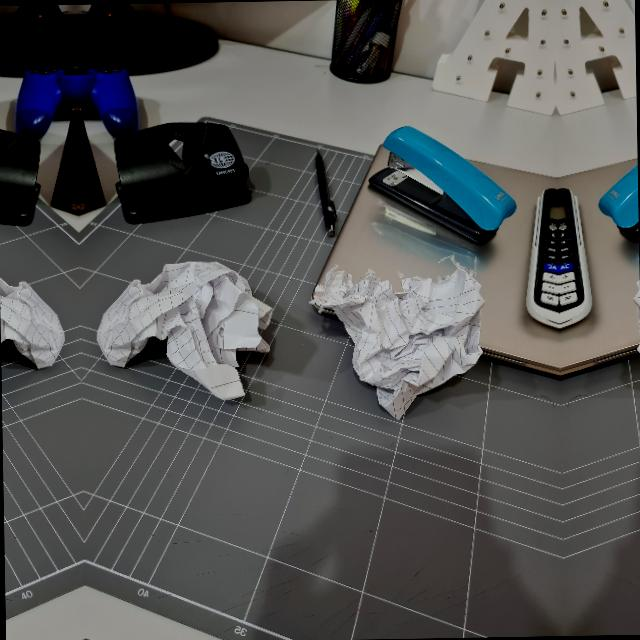paper: (313, 265, 490, 416), (99, 260, 279, 404), (0, 262, 61, 404), (631, 262, 640, 410)
